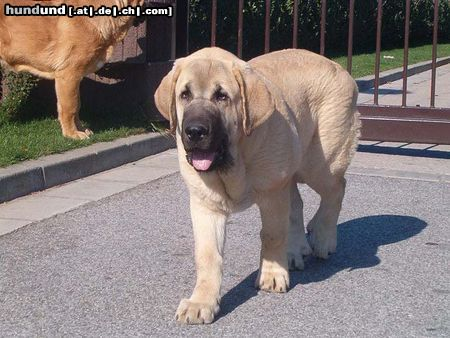mastin_espanol: (153, 45, 362, 325), (0, 0, 142, 139)
